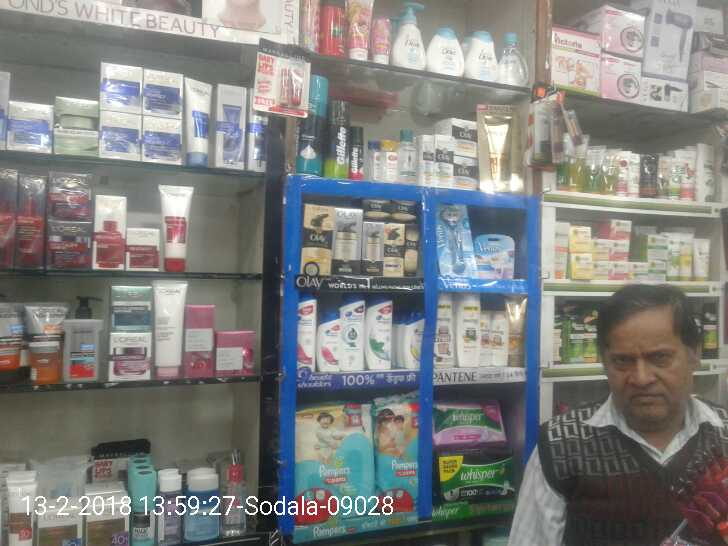gillete: (303, 77, 328, 177), (328, 102, 346, 177), (348, 124, 366, 177)
venus: (442, 200, 475, 281), (475, 236, 515, 281)
